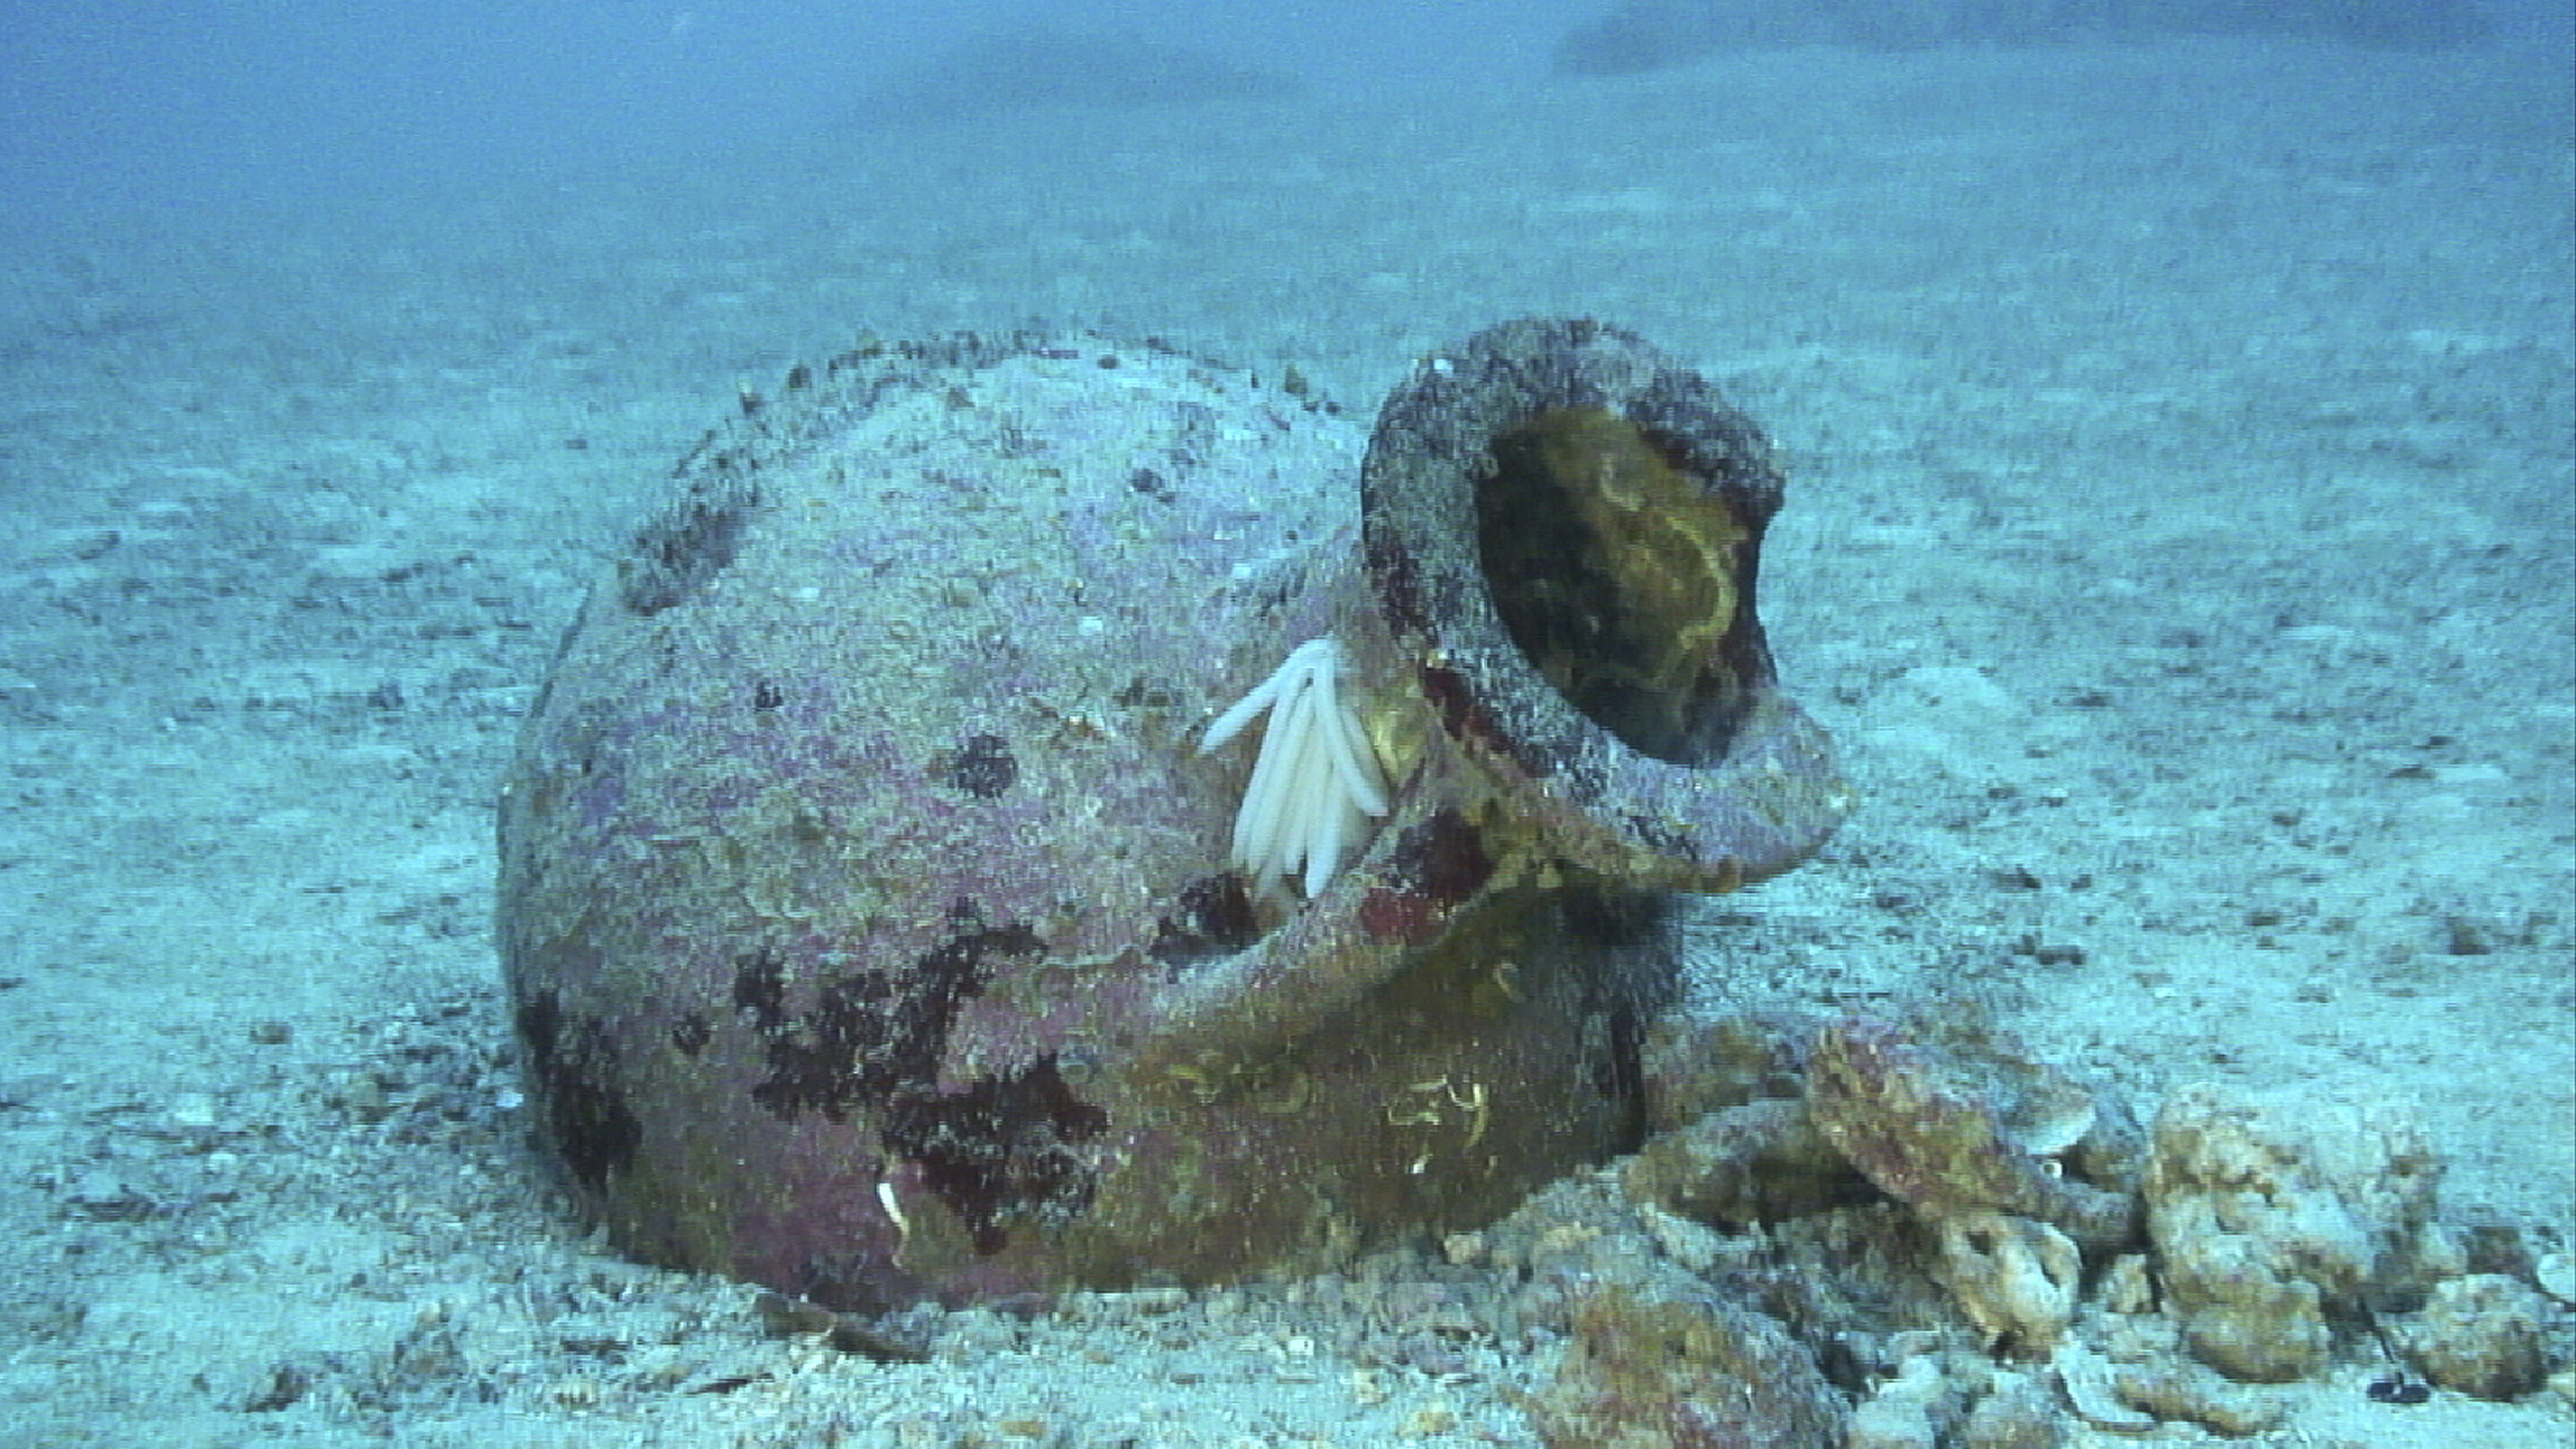amphora: (472, 310, 1877, 1311)
